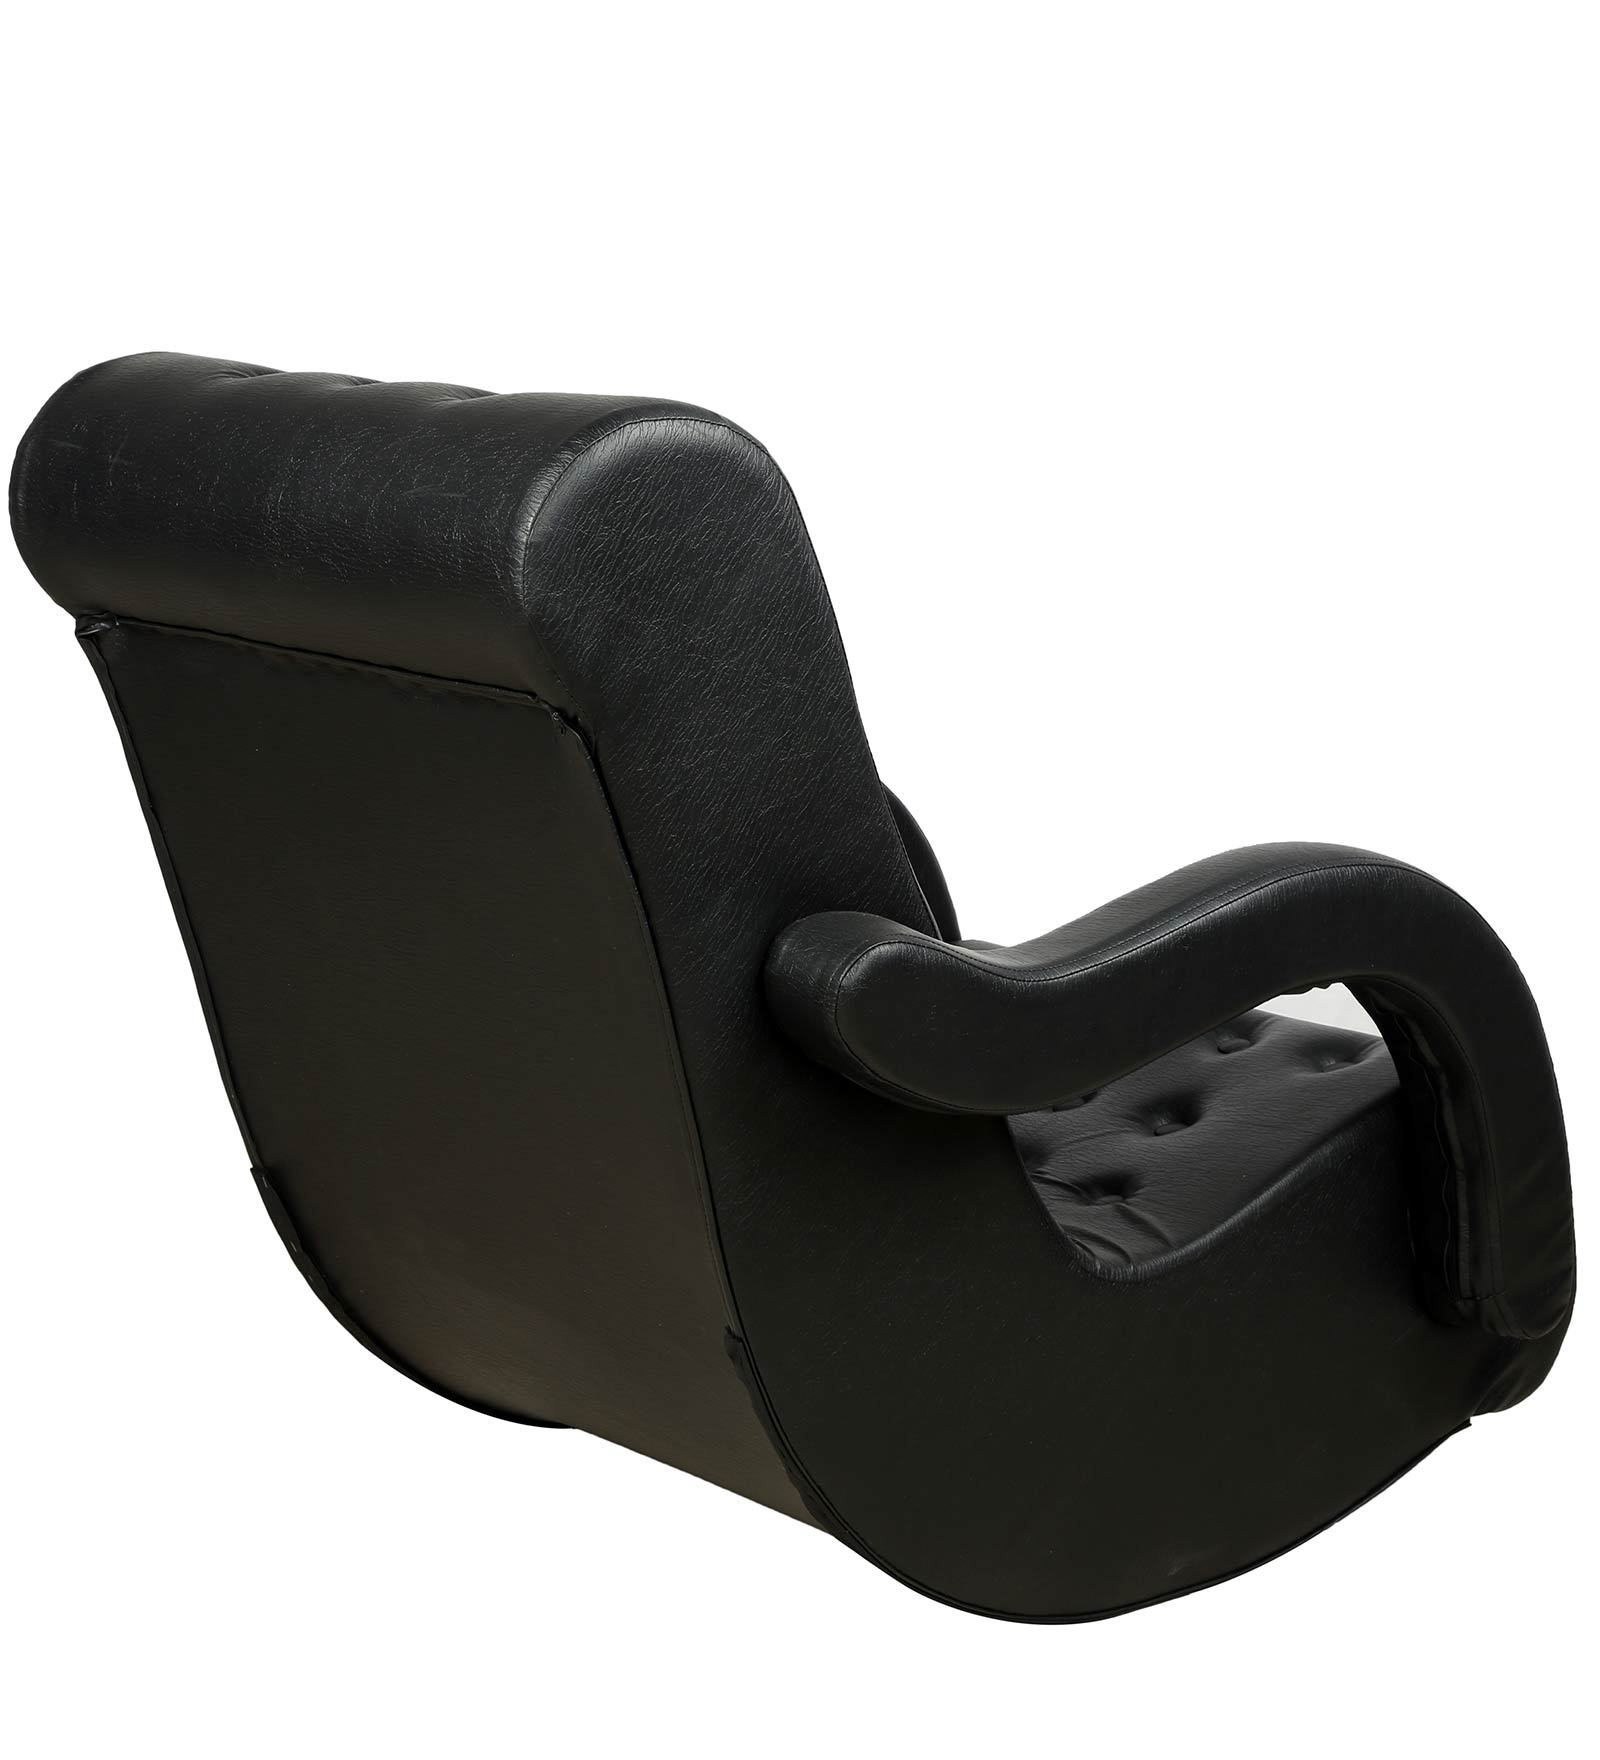Alex Low Seating Rocking Chair with Arm Rest in Black Colour by Parin: (9, 304, 1600, 1633)
